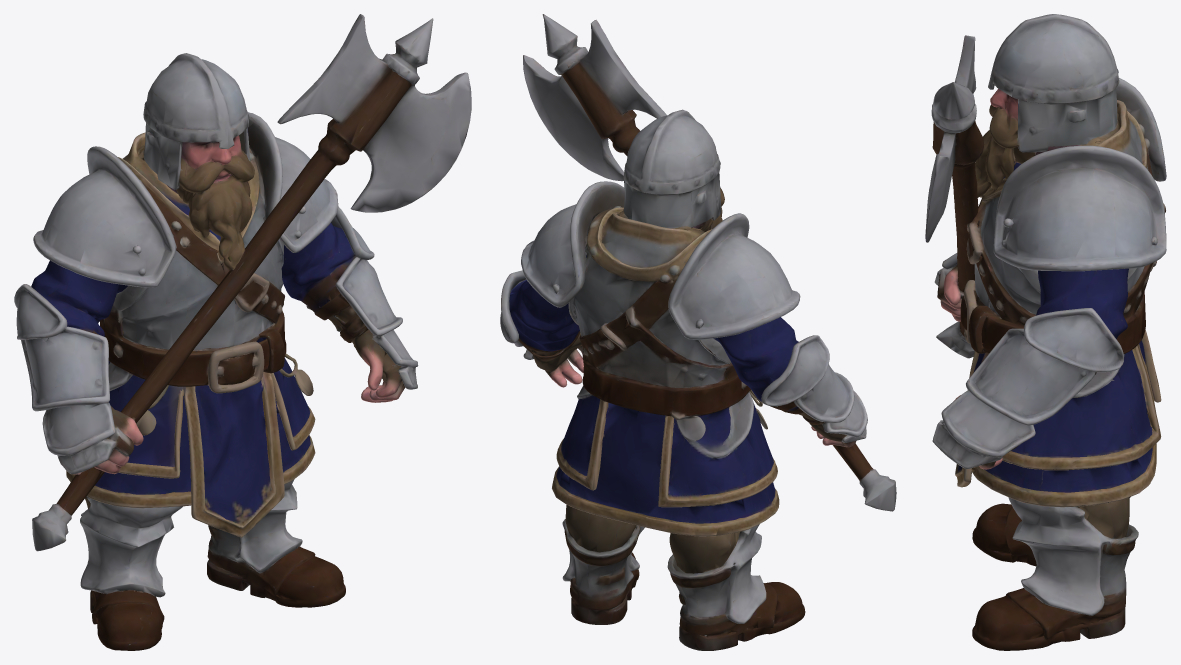
File: detail_4.glb
The picture shows the model from 3 angles, left to right: view 1: azimuth 30°, elevation 25°; view 2: azimuth 150°, elevation 25°; view 3: azimuth 270°, elevation 25°; orthographic projection. The views are drawn at different scales.
Bounding box in the file's own units: 0.7459 × 0.9984 × 0.351.
Materials: 1 (1 with a texture image).
